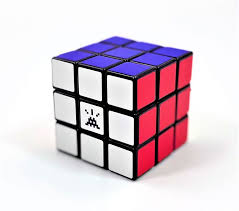cube: (44, 30, 198, 182)
